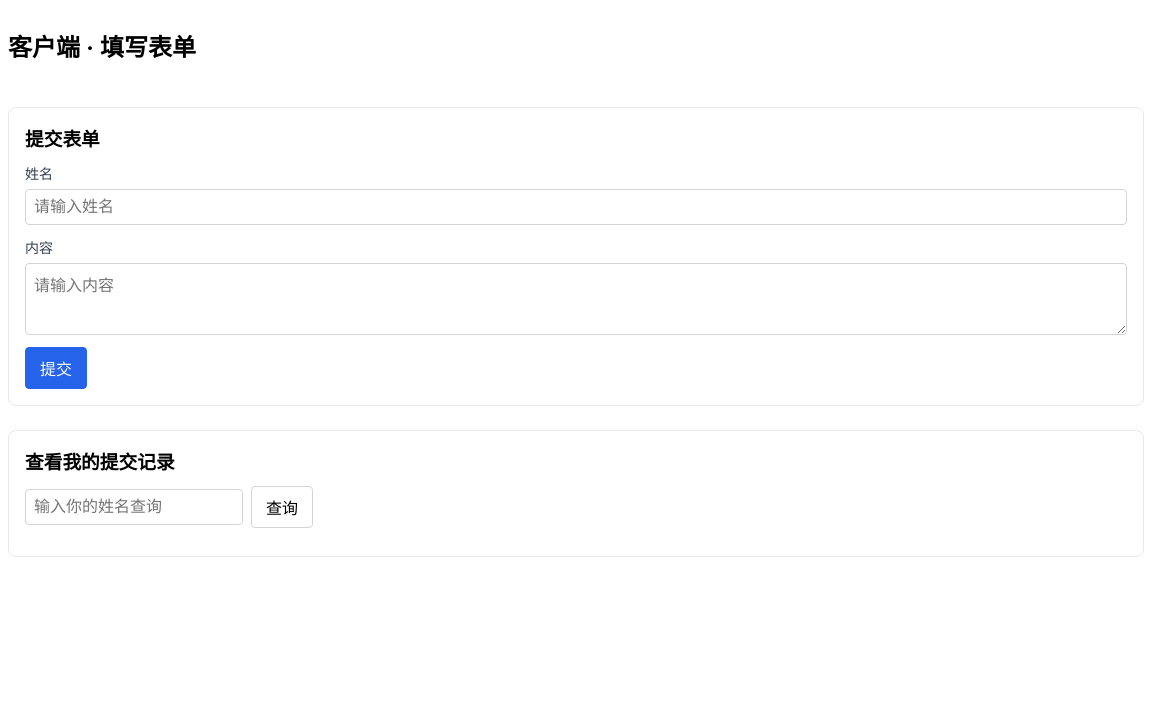
it: ClientView › 查询不存在的姓名时显示空提示
Type "不存在" into the field with placeholder "输入你的姓名查询". click: (134,507)
box: [25, 489, 243, 525]
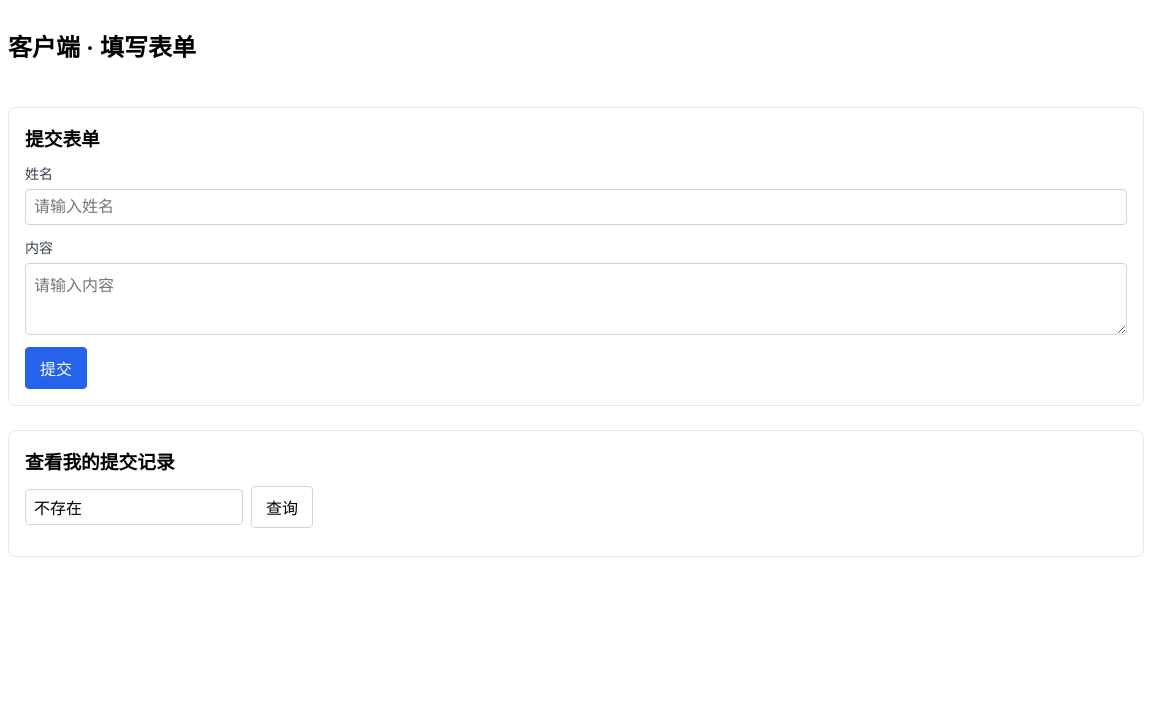
Click the button "查询". click: (282,507)
box: [251, 486, 313, 528]
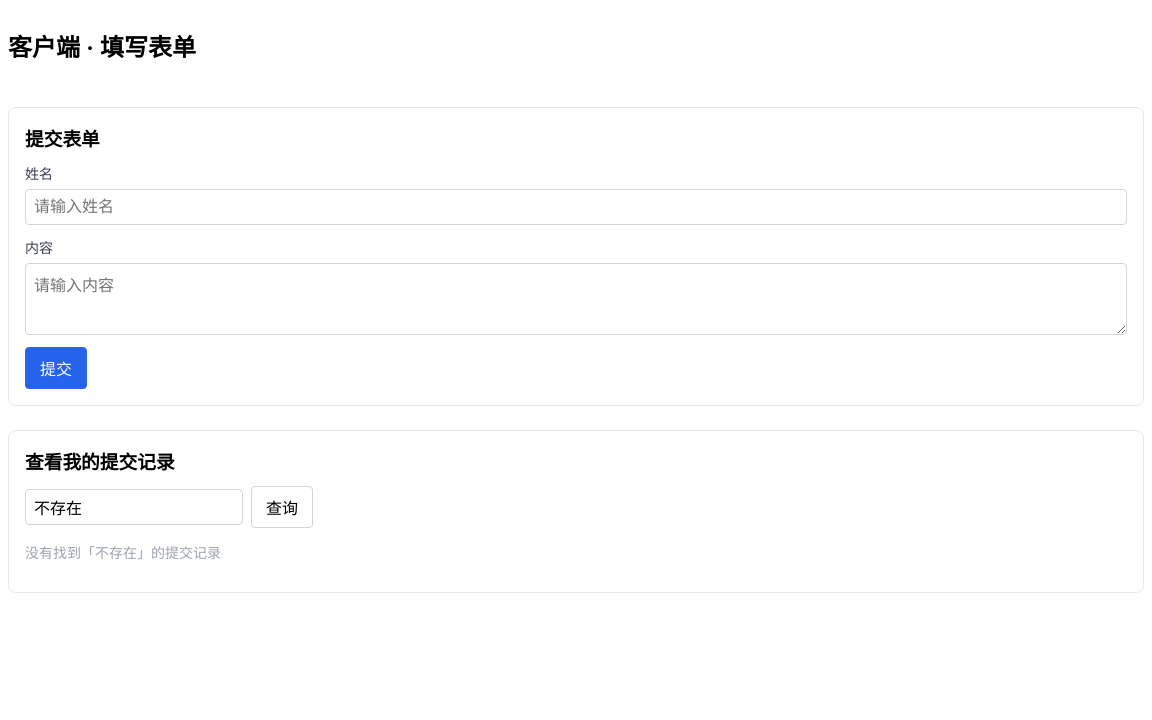
Expected: the text "没有找到「不存在」的提交记录" is shown, [25, 546, 221, 561]
